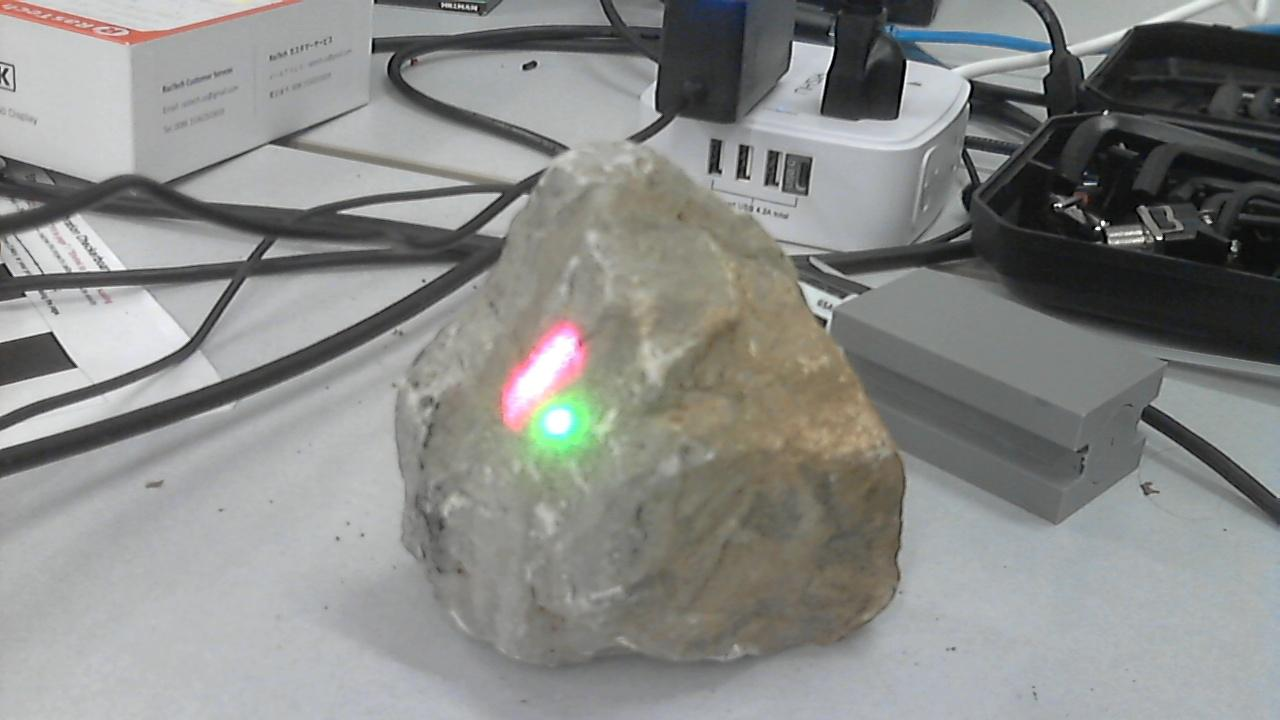Object rock - Material stone - Pdfname as35as4adsa: (498, 319, 588, 453)
